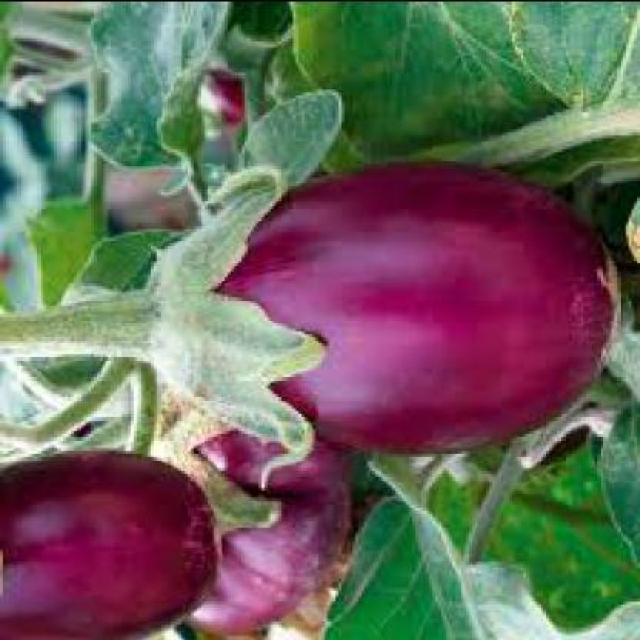BIODEGRADABLE: (0, 162, 620, 458), (287, 3, 638, 157), (0, 450, 217, 638), (321, 457, 517, 638), (182, 427, 350, 635), (501, 3, 637, 114), (594, 332, 638, 566), (199, 70, 239, 128)
